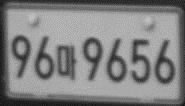5: (130, 39, 152, 84)
6: (153, 38, 176, 84), (105, 36, 127, 82), (33, 34, 54, 80)
9: (10, 34, 32, 79), (82, 37, 103, 81)
마: (56, 44, 78, 82)
